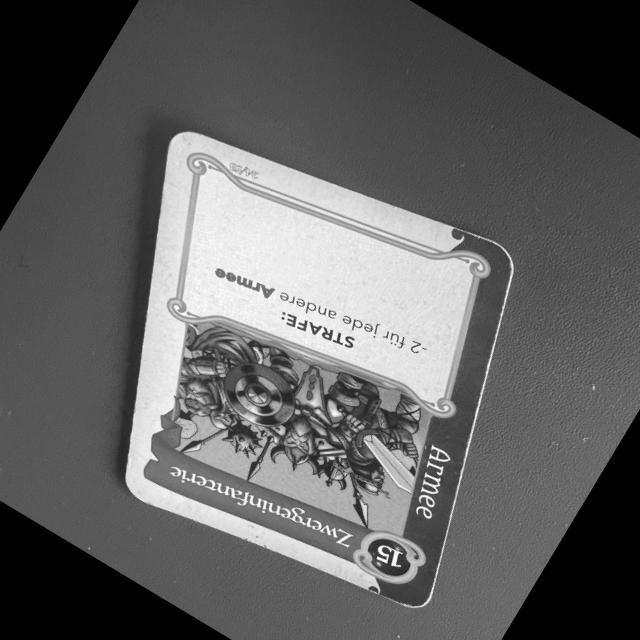Dwarvish Infantry: (114, 120, 525, 617)
